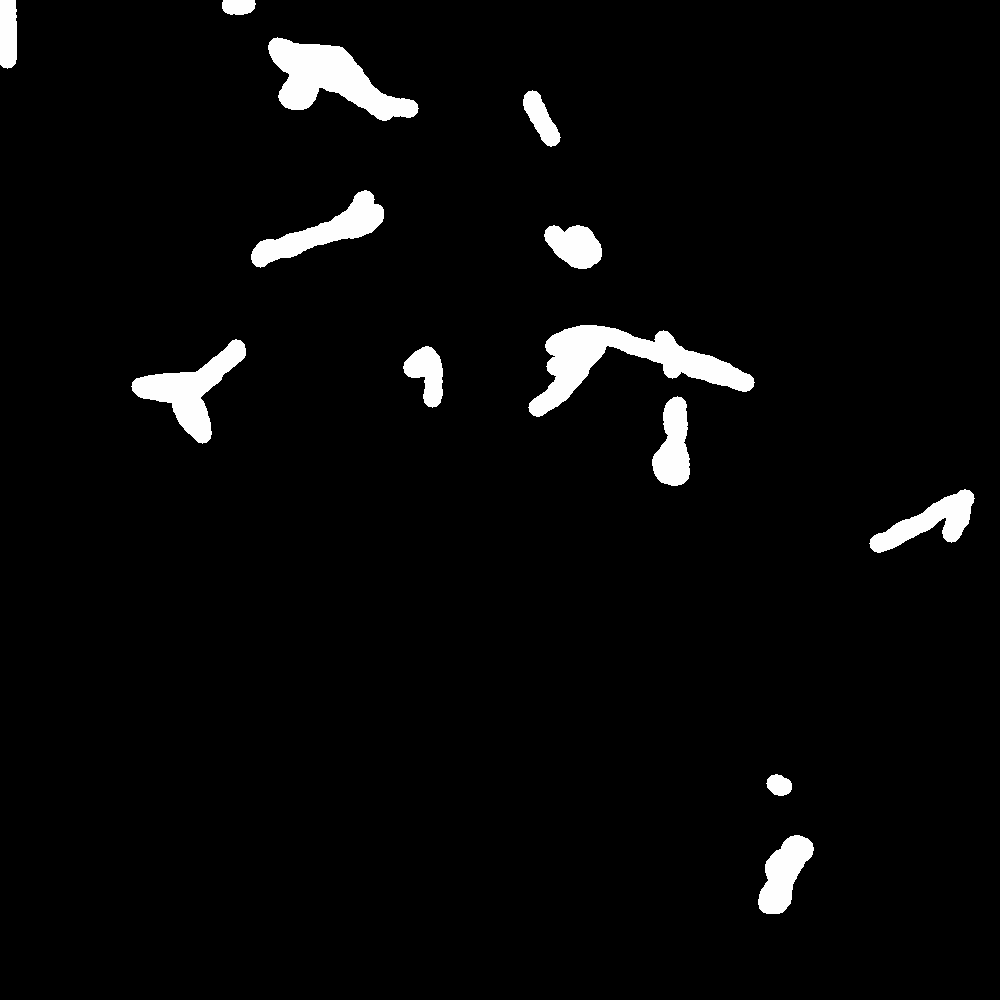illegal: (258, 34, 424, 132), (134, 341, 253, 446), (259, 193, 376, 265), (939, 427, 1000, 536), (651, 325, 690, 489), (761, 845, 814, 909), (521, 93, 564, 126), (407, 347, 447, 380), (766, 771, 786, 797)
